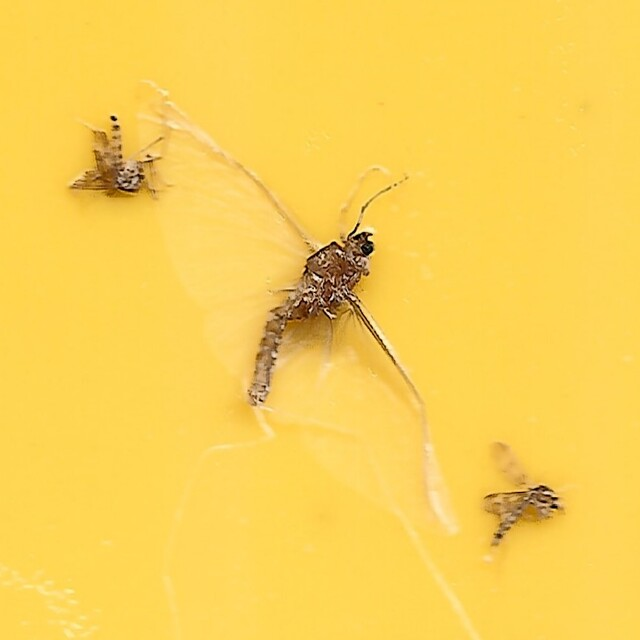Ephemeroptera: (142, 87, 453, 537)
Nematocera: (477, 436, 566, 553), (74, 109, 164, 205)
